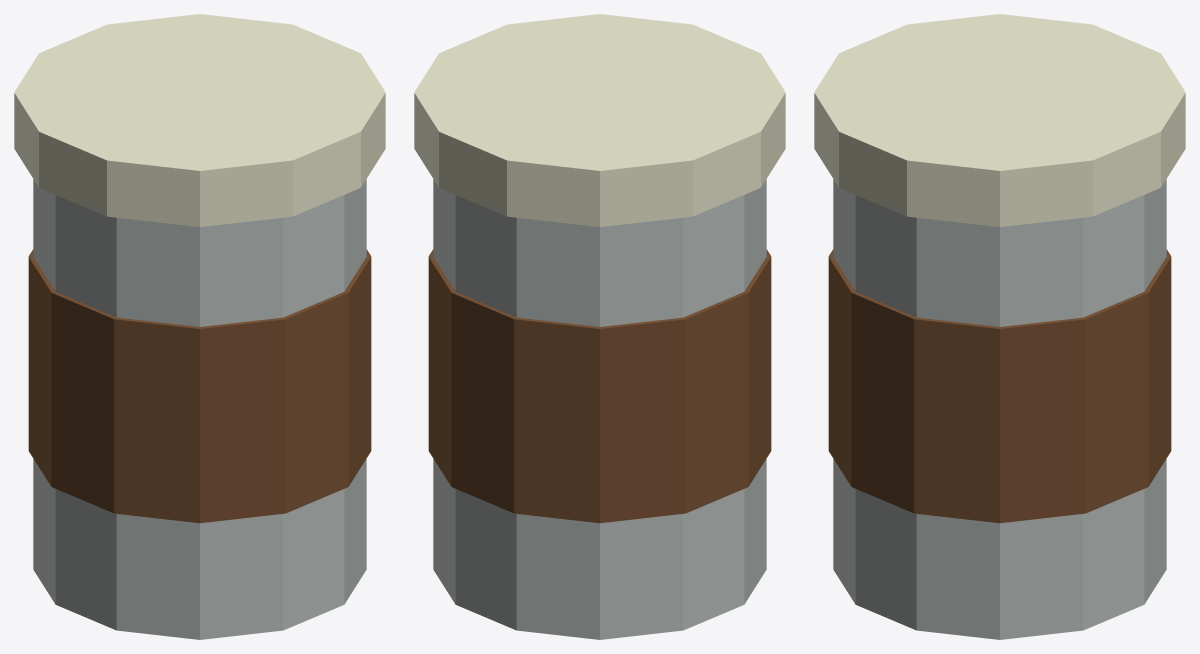
The model's file is CoffeeCup.fbx.
3 views of the same model, side by side, from view 1: azimuth 30°, elevation 25°; view 2: azimuth 150°, elevation 25°; view 3: azimuth 270°, elevation 25° (orthographic).
Visible parts, largest first — view 1: CoffeeCup; view 2: CoffeeCup; view 3: CoffeeCup.
Boxes of the visible parts, x1=… form: CoffeeCup: x1=14, y1=14, x2=385, y2=639; CoffeeCup: x1=414, y1=14, x2=785, y2=639; CoffeeCup: x1=814, y1=14, x2=1185, y2=639.
Size of the model in its own units: 7.8 by 11.05 by 7.8.
1 material, 1 textured.
